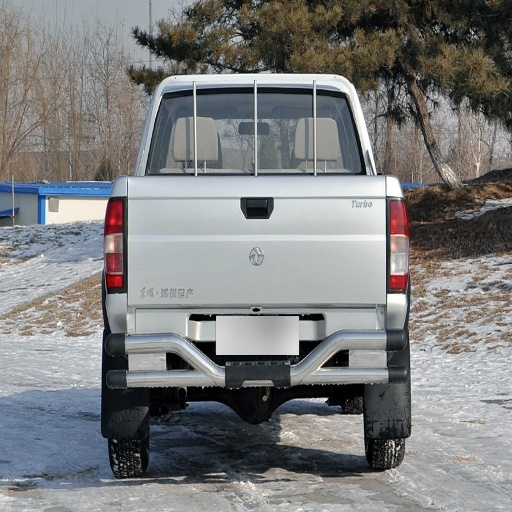back_bumper: (103, 326, 227, 389), (242, 331, 369, 386)
back_left_light: (103, 197, 125, 292)
trunk: (110, 179, 386, 337)
